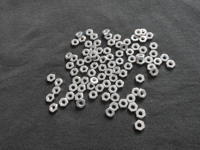nut: (135, 120, 146, 132), (137, 109, 147, 120), (119, 99, 129, 110), (129, 103, 139, 113), (150, 67, 160, 77), (136, 74, 145, 84), (102, 93, 111, 103), (110, 102, 119, 112), (49, 103, 58, 113), (77, 99, 86, 109), (66, 92, 76, 101), (89, 91, 99, 100), (72, 76, 82, 85), (149, 50, 159, 59), (144, 56, 154, 65), (108, 60, 117, 70), (87, 69, 97, 78), (115, 41, 125, 50), (80, 65, 89, 75), (116, 80, 125, 89), (127, 95, 136, 104), (60, 99, 69, 108), (46, 94, 55, 103), (75, 93, 84, 102), (77, 85, 86, 94), (81, 77, 90, 86), (112, 66, 121, 75), (145, 56, 154, 65), (78, 35, 87, 44), (99, 55, 108, 64), (70, 68, 79, 77), (138, 89, 146, 99), (149, 42, 159, 50), (107, 108, 115, 118), (109, 86, 119, 94), (119, 70, 129, 78), (96, 84, 104, 94), (97, 73, 107, 81), (115, 50, 125, 58), (167, 60, 176, 68), (154, 58, 163, 66), (161, 54, 170, 62), (111, 94, 120, 102), (132, 88, 140, 97), (47, 74, 55, 83), (54, 79, 63, 87), (53, 87, 62, 95), (66, 62, 75, 70), (69, 84, 78, 92), (109, 74, 118, 82), (103, 80, 111, 89), (87, 83, 96, 91), (90, 77, 99, 85), (105, 68, 113, 77), (147, 64, 156, 72), (137, 57, 145, 66), (139, 46, 148, 54), (139, 28, 148, 36), (132, 43, 141, 51), (116, 58, 125, 66), (99, 64, 108, 72), (90, 62, 99, 70), (115, 50, 124, 58), (113, 34, 122, 42), (71, 38, 80, 46), (93, 39, 102, 47), (103, 47, 112, 55), (89, 51, 98, 59), (76, 59, 85, 67), (70, 54, 79, 62), (104, 33, 114, 40), (106, 54, 116, 61), (135, 54, 146, 60), (146, 32, 154, 40), (124, 38, 132, 46), (120, 44, 128, 52), (75, 30, 83, 38), (128, 56, 137, 63), (131, 35, 140, 42), (126, 49, 135, 56), (107, 39, 116, 46), (96, 46, 103, 55), (82, 49, 91, 56), (84, 41, 93, 48), (86, 29, 94, 36), (125, 63, 133, 70), (135, 29, 143, 36), (140, 36, 148, 43), (103, 29, 111, 36), (90, 33, 98, 40), (93, 55, 101, 62), (65, 52, 72, 60), (85, 57, 92, 64), (91, 47, 96, 54)
